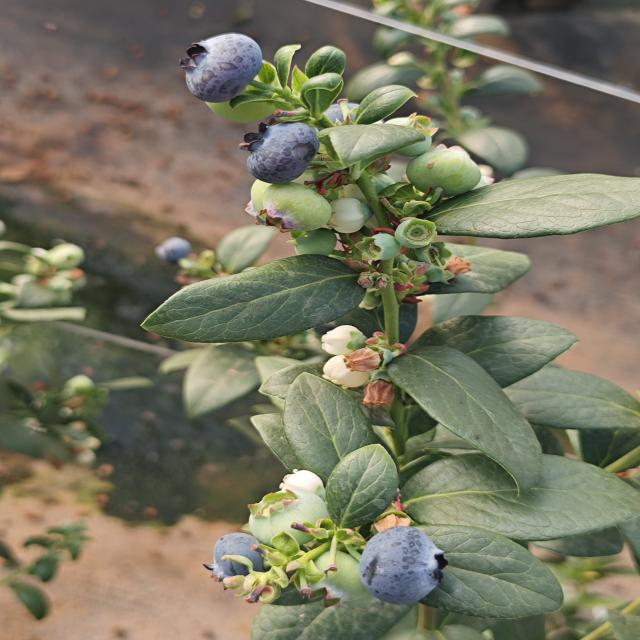ripe: (352, 518, 456, 605), (171, 27, 269, 105), (234, 122, 324, 183), (203, 528, 277, 588), (316, 92, 382, 134), (146, 234, 196, 267)
